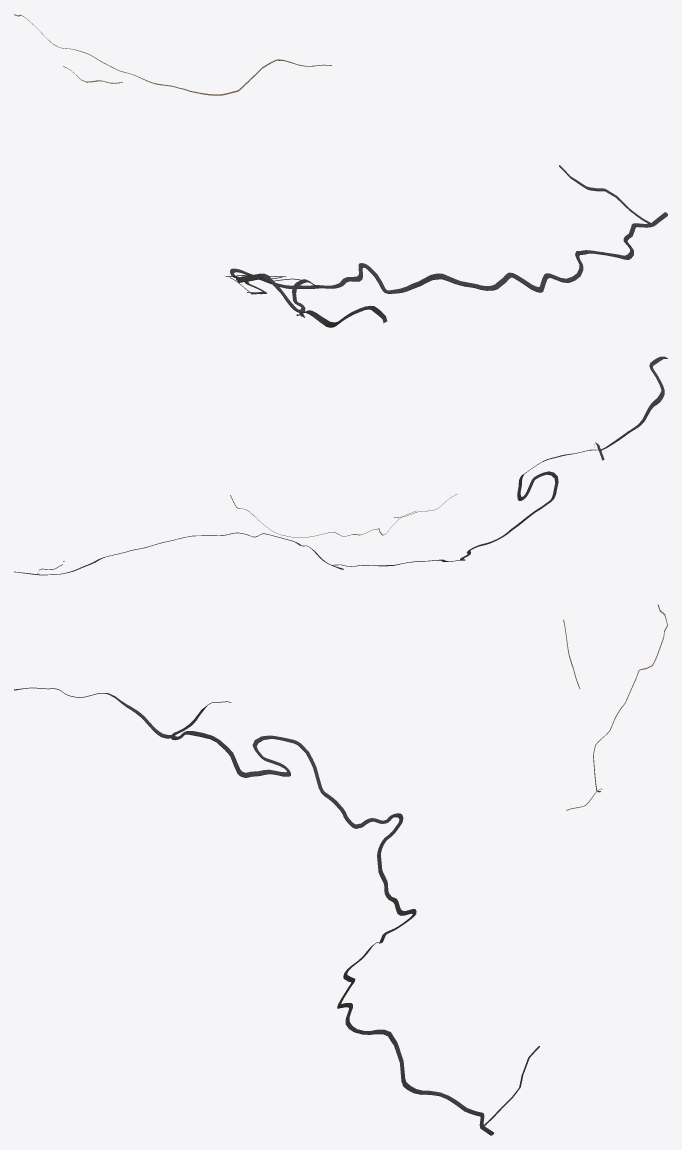
3 views of the same model, one above another, from view 1: azimuth 30°, elevation 25°; view 2: azimuth 150°, elevation 25°; view 3: azimuth 270°, elevation 25° (orthographic). The views are drawn at different scales.
Bounding box in the file's own units: 1017 × 476 × 1056.
